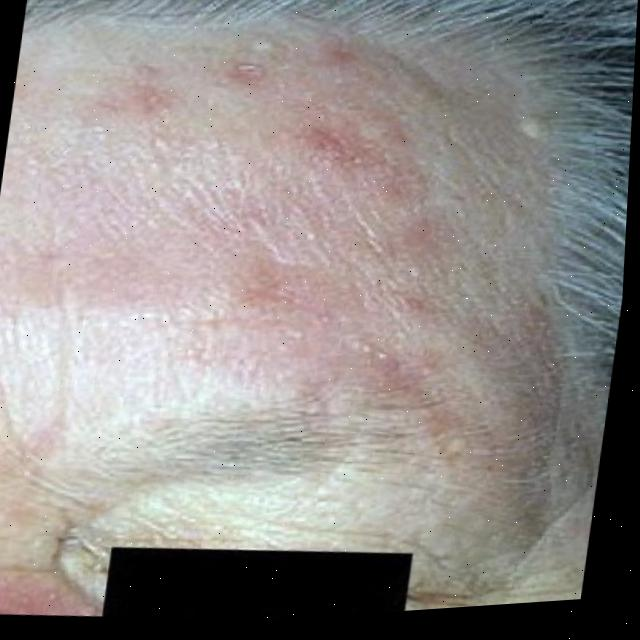Rosacea: (164, 40, 495, 338)
